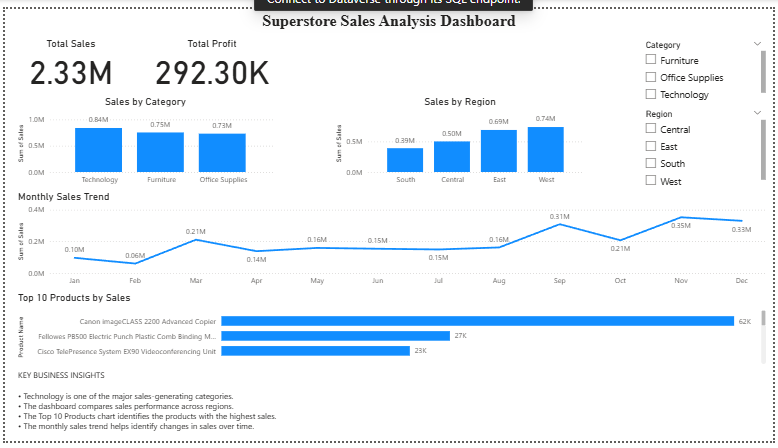

The dashboard page shown, as its layout file describes it:
{"tool":"powerbi","page":{"name":"Page 1","canvas":[1280,720],"ordinal":0},"visuals":[{"type":"card","title":"Total Sales","fields":{"Values":["Sum(sample_-_superstore.Sales)"]},"box":[16.7,46.7,186.7,85],"z":0},{"type":"card","title":"Total Profit","fields":{"Values":["Sum(sample_-_superstore.Profit)"]},"box":[240,46.7,210,85],"z":1000},{"type":"clusteredColumnChart","title":"Sales by Category","fields":{"Category":["sample_-_superstore.Category"],"Y":["Sum(sample_-_superstore.Sales)"]},"box":[16.7,143.3,435,158.3],"z":2000},{"type":"clusteredColumnChart","title":"Sales by Region","fields":{"Category":["sample_-_superstore.Region"],"Y":["Sum(sample_-_superstore.Sales)"]},"box":[546.7,143.3,423.3,158.3],"z":3000},{"type":"lineChart","title":"Monthly Sales Trend","fields":{"Y":["Sum(sample_-_superstore.Sales)"],"Category":["sample_-_superstore.Month Name"]},"box":[16.7,301.7,1256.7,168.3],"z":4000},{"type":"clusteredBarChart","title":"Top 10 Products by Sales","fields":{"Category":["sample_-_superstore.Product Name"],"Y":["Sum(sample_-_superstore.Sales)"]},"box":[16.7,470,1256.7,126.7],"z":5000},{"type":"slicer","fields":{"Values":["sample_-_superstore.Category"]},"box":[1055,46.7,218.3,110],"z":6000},{"type":"slicer","fields":{"Values":["sample_-_superstore.Region"]},"box":[1055,161.7,218.3,140],"z":7000},{"type":"textbox","box":[16.7,596.7,1256.7,123.3],"z":8000},{"type":"textbox","box":[0,0,1280,47.5],"z":9000}]}

Visuals, with their boxes on the page's 1280x720 design canvas (x1, y1, x2, y2). These are canvas units, not pixel positions in the 778x448 screenshot, which may show the page scaled, cropped or inside an application window:
"Total Sales" card: region(17, 47, 203, 132)
"Total Profit" card: region(240, 47, 450, 132)
"Sales by Category" clusteredColumnChart: region(17, 143, 452, 302)
"Sales by Region" clusteredColumnChart: region(547, 143, 970, 302)
"Monthly Sales Trend" lineChart: region(17, 302, 1273, 470)
"Top 10 Products by Sales" clusteredBarChart: region(17, 470, 1273, 597)
slicer - sample_-_superstore.Category: region(1055, 47, 1273, 157)
slicer - sample_-_superstore.Region: region(1055, 162, 1273, 302)
textbox: region(17, 597, 1273, 720)
textbox: region(0, 0, 1280, 48)
